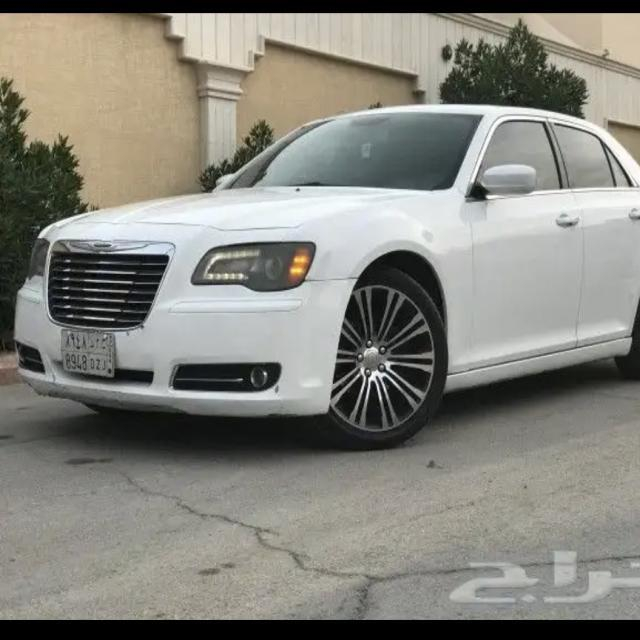license_plate: (56, 326, 118, 381)
